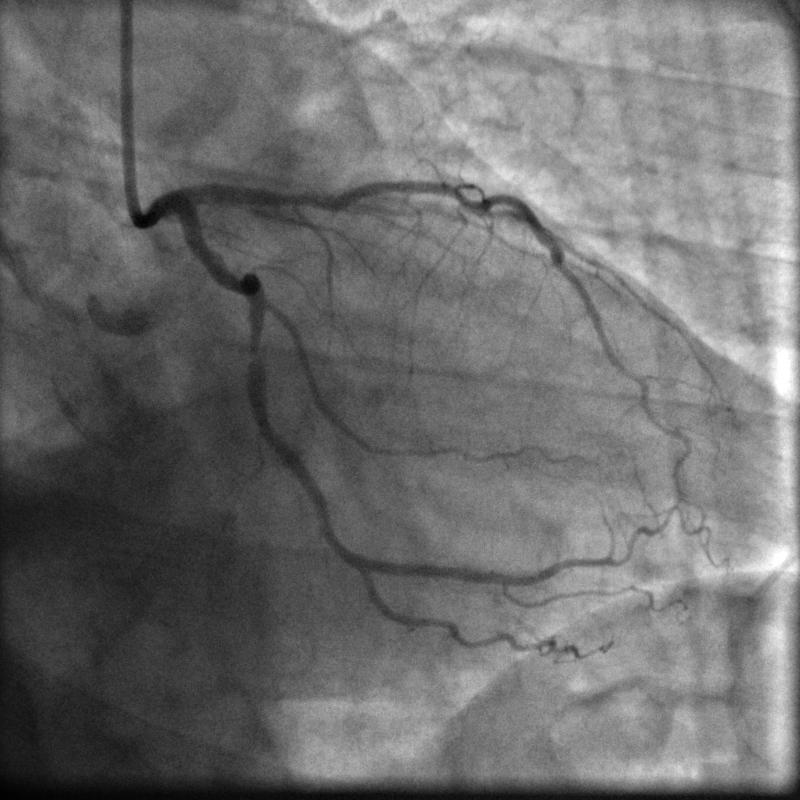Stenosis: (245, 338, 264, 363)
